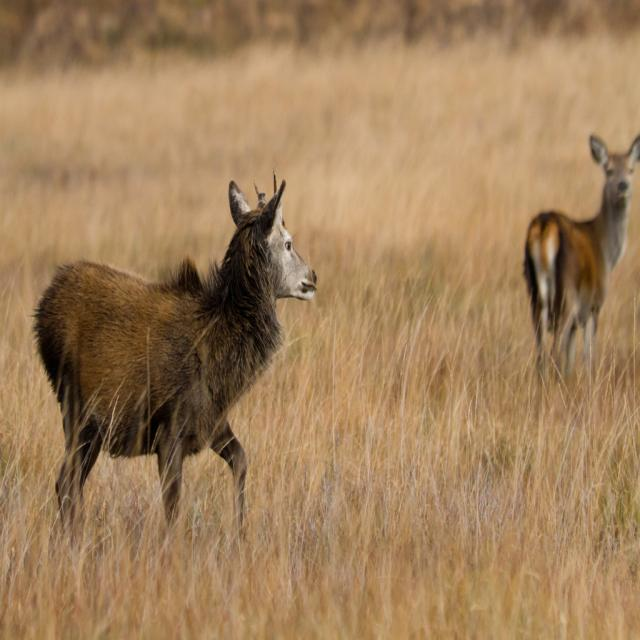Deer: (26, 168, 316, 554), (522, 134, 639, 391)
